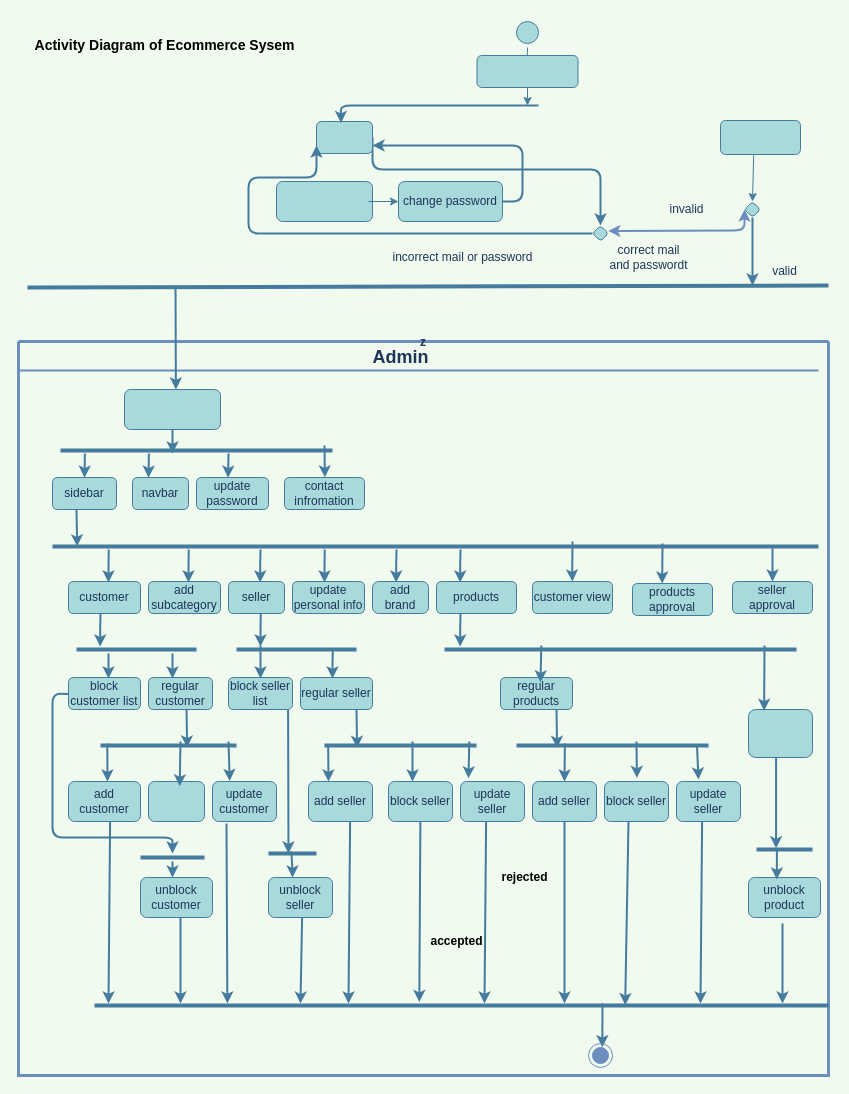
This 849x1094 diagram has some shape labels left out. The centre of each missing label's shape, as x and y in pixels:
"Admin Home Page" belongs at [172,409].
"authentication" belongs at [760,137].
"block customer" belongs at [176,801].
"block products list" belongs at [780,733].
"Dashboard" belongs at [527,71].
"forgot password" belongs at [324,201].
"sign in" belongs at [344,137].
